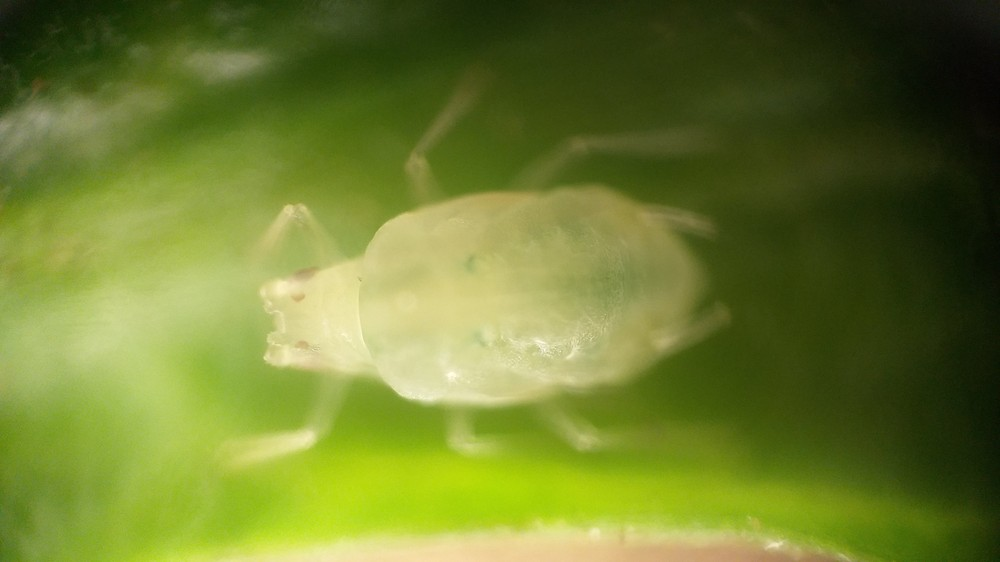Pulgon: (213, 68, 783, 481)
